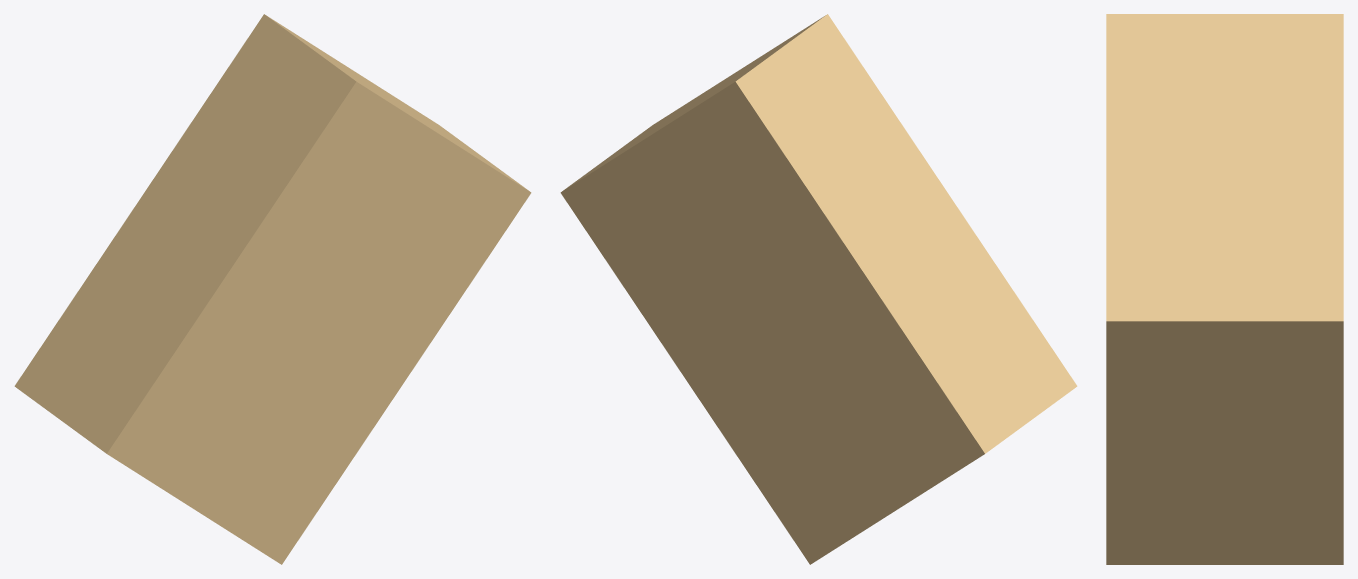
File: SM_Brake_Front_Caliper.fbx
The picture shows the model from 3 angles, left to right: view 1: azimuth 30°, elevation 25°; view 2: azimuth 150°, elevation 25°; view 3: azimuth 270°, elevation 25°; orthographic projection. The views are drawn at different scales.
Parts seen in each view (by area): view 1: Brake_Front_Caliper; view 2: Brake_Front_Caliper; view 3: Brake_Front_Caliper.
Boxes of the visible parts, box(x1,y1,x2,y2) form: Brake_Front_Caliper: box(14, 14, 531, 564); Brake_Front_Caliper: box(560, 14, 1077, 564); Brake_Front_Caliper: box(1106, 14, 1343, 564).
Bounding box in the file's own units: 0.07 × 0.1859 × 0.1945.
